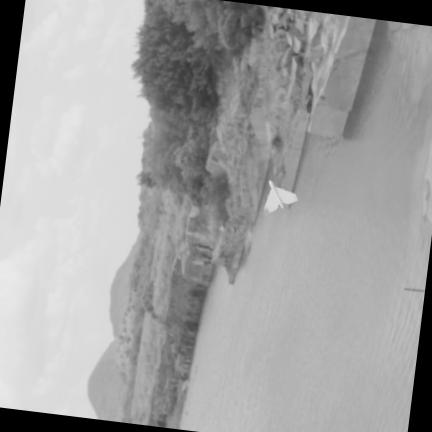Shahed: (264, 180, 296, 212)
